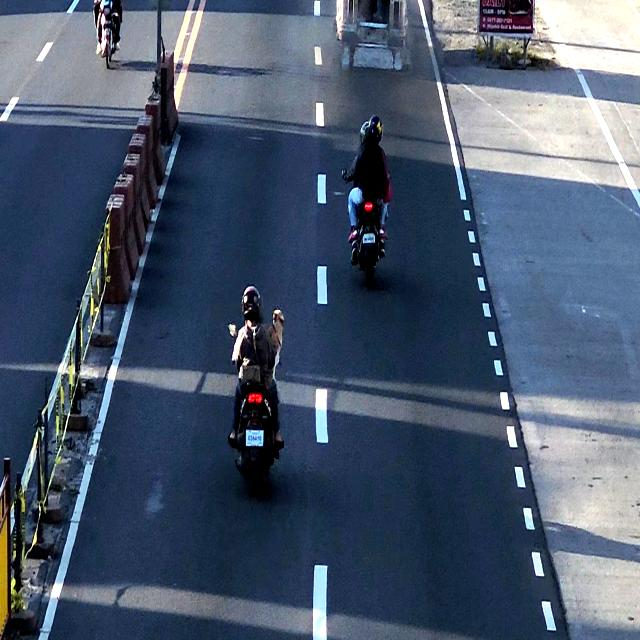Jeep: (341, 0, 415, 72)
License-Plate: (244, 428, 266, 449), (362, 230, 378, 248)
Motorcycle: (230, 282, 286, 499), (351, 120, 391, 284)
